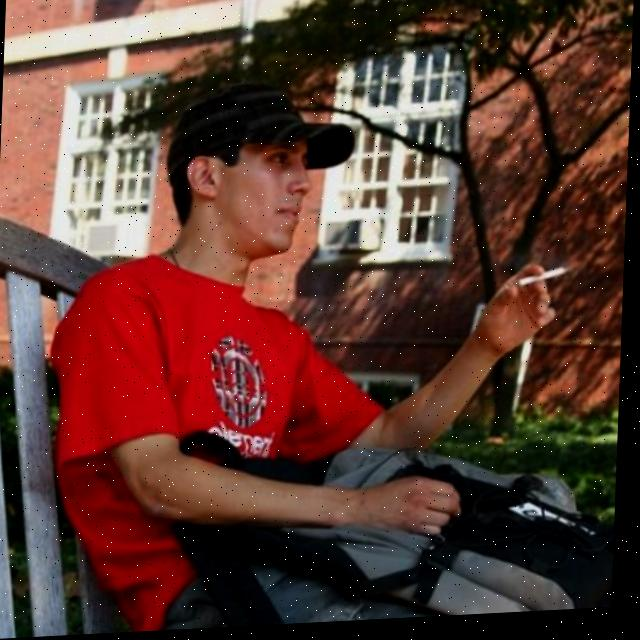cigarette: (519, 272, 569, 293)
